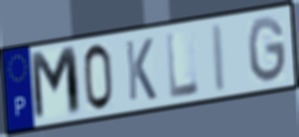0: (82, 41, 115, 113)
G: (246, 14, 288, 85)
I: (209, 21, 228, 95)
K: (123, 36, 158, 103)
L: (164, 29, 202, 101)
M: (27, 43, 84, 124)
